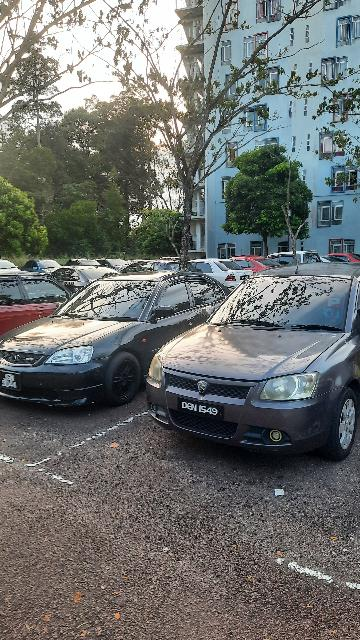License_Plate: (181, 399, 228, 422), (2, 371, 27, 392)
car: (141, 259, 360, 465), (2, 270, 231, 410)
